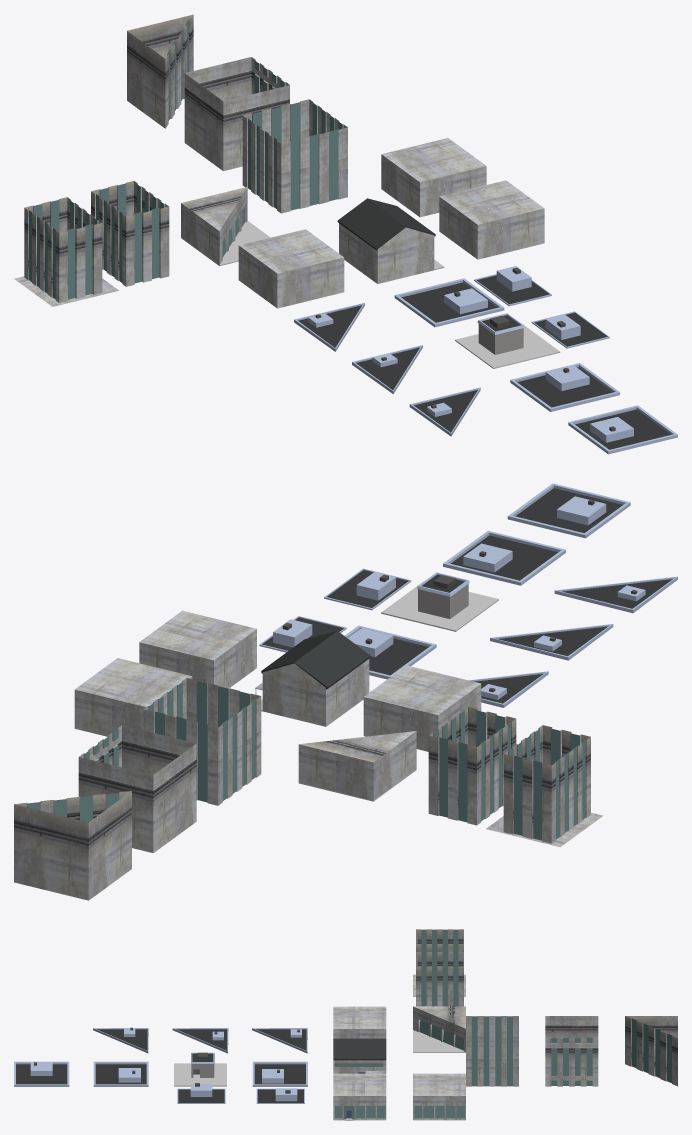
Rendered from houses11.fbx.
The picture shows the model from 3 angles, top to bottom: view 1: azimuth 30°, elevation 25°; view 2: azimuth 150°, elevation 25°; view 3: azimuth 270°, elevation 25°; orthographic projection. The views are drawn at different scales.
Parts seen in each view (by area): view 1: S_up01, s_up11, S_up02, s_up12, S_Alap04, S_Alap01, S_Alap02, L_Up01, S_Alap03, L_Alap01, T_Alap01, S_Roof02 (+7 smaller); view 2: L_Up01, S_up02, S_up01, s_up11, s_up12, S_Alap02, S_Alap01, L_Alap01, S_Alap04, S_Alap03, S_Roof01, S_Roof02.001 (+7 smaller); view 3: S_up02, S_up01, L_Up01, s_up12, S_Alap01, S_Alap03, L_Alap01, S_Alap02, S_Alap04, T_Alap01, S_Roof02.001, S_Roof02 (+7 smaller).
Boxes of the visible parts, x1,y1,x2,y2 form: S_up01: [242, 99, 347, 213]; s_up11: [14, 197, 118, 306]; S_up02: [184, 57, 289, 170]; s_up12: [91, 181, 169, 286]; S_Alap04: [238, 229, 344, 308]; S_Alap01: [439, 180, 544, 259]; S_Alap02: [337, 198, 444, 283]; L_Up01: [127, 14, 193, 128]; S_Alap03: [381, 138, 486, 217]; L_Alap01: [181, 187, 270, 266]; T_Alap01: [455, 313, 560, 368]; S_Roof02: [394, 278, 504, 327]; L_Up01: [14, 791, 131, 900]; S_up02: [78, 725, 196, 853]; S_up01: [143, 678, 261, 805]; s_up11: [486, 725, 602, 847]; s_up12: [428, 707, 516, 825]; S_Alap02: [255, 631, 370, 726]; S_Alap01: [139, 610, 256, 688]; L_Alap01: [298, 731, 416, 801]; S_Alap04: [363, 665, 481, 751]; S_Alap03: [74, 658, 192, 736]; S_Roof01: [507, 483, 630, 538]; S_Roof02.001: [443, 530, 565, 585]; S_up02: [545, 1016, 598, 1086]; S_up01: [466, 1016, 518, 1086]; L_Up01: [625, 1016, 677, 1086]; s_up12: [416, 952, 463, 1006]; S_Alap01: [333, 1073, 386, 1120]; S_Alap03: [413, 1073, 465, 1120]; L_Alap01: [413, 1006, 465, 1052]; S_Alap02: [333, 1038, 386, 1073]; S_Alap04: [333, 1006, 386, 1038]; T_Alap01: [174, 1052, 226, 1086]; S_Roof02.001: [93, 1061, 148, 1086]; S_Roof02: [252, 1061, 307, 1086].
Bounding box in the file's own units: 1303 × 204 × 2504.
